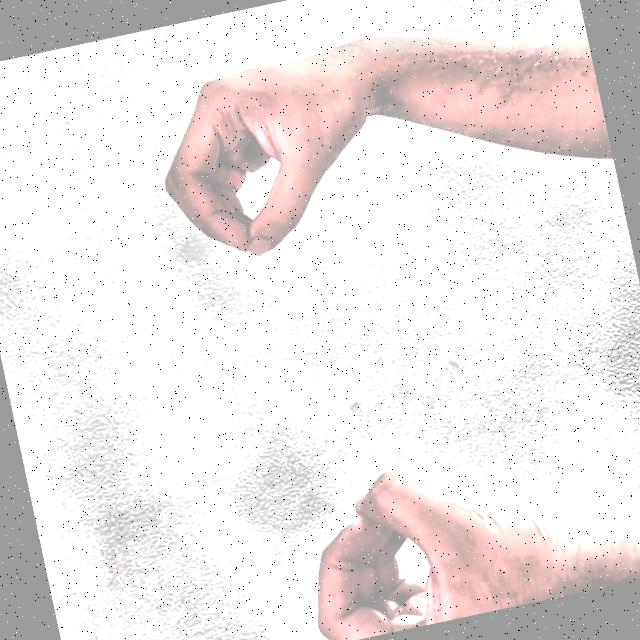Bisharga: (134, 6, 551, 640)
